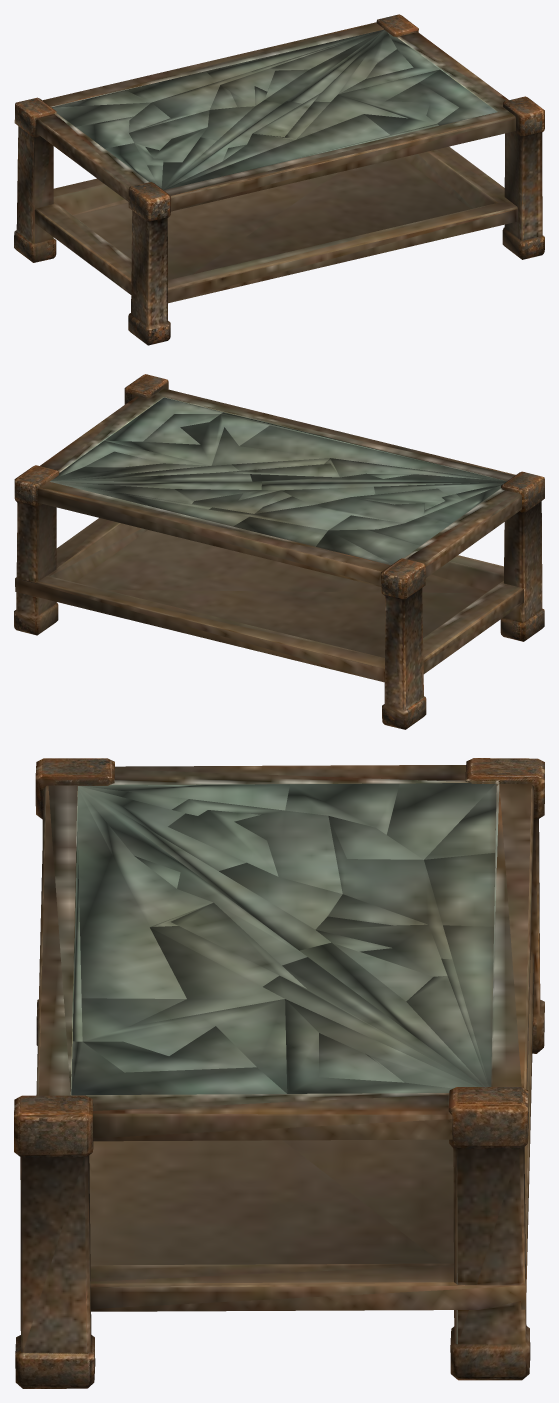
3 views of the same model, one above another, from view 1: azimuth 30°, elevation 25°; view 2: azimuth 150°, elevation 25°; view 3: azimuth 270°, elevation 25° (orthographic). The views are drawn at different scales.
Parts seen in each view (by area): view 1: tripo_node_9292c7ad, tripo_node_9292c7ad.040, tripo_node_9292c7ad.041, tripo_node_9292c7ad.018, tripo_node_9292c7ad.020, tripo_node_9292c7ad.010, tripo_node_9292c7ad.021, tripo_node_9292c7ad.009, tripo_node_9292c7ad.038, tripo_node_9292c7ad.002, tripo_node_9292c7ad.005, tripo_node_9292c7ad.015 (+24 smaller); view 2: tripo_node_9292c7ad, tripo_node_9292c7ad.041, tripo_node_9292c7ad.040, tripo_node_9292c7ad.018, tripo_node_9292c7ad.020, tripo_node_9292c7ad.010, tripo_node_9292c7ad.021, tripo_node_9292c7ad.009, tripo_node_9292c7ad.038, tripo_node_9292c7ad.002, tripo_node_9292c7ad.015, tripo_node_9292c7ad.005 (+24 smaller); view 3: tripo_node_9292c7ad, tripo_node_9292c7ad.018, tripo_node_9292c7ad.020, tripo_node_9292c7ad.010, tripo_node_9292c7ad.021, tripo_node_9292c7ad.009, tripo_node_9292c7ad.038, tripo_node_9292c7ad.002, tripo_node_9292c7ad.004, tripo_node_9292c7ad.015, tripo_node_9292c7ad.041, tripo_node_9292c7ad.005 (+26 smaller).
Boxes of the visible parts, x1,y1,x2,y2 form: tripo_node_9292c7ad: (34,14,544,303); tripo_node_9292c7ad.040: (128,182,170,345); tripo_node_9292c7ad.041: (14,97,56,262); tripo_node_9292c7ad.018: (166,114,389,189); tripo_node_9292c7ad.020: (338,69,439,134); tripo_node_9292c7ad.010: (129,110,209,165); tripo_node_9292c7ad.021: (419,69,497,125); tripo_node_9292c7ad.009: (130,71,253,132); tripo_node_9292c7ad.038: (296,94,407,139); tripo_node_9292c7ad.002: (52,102,150,126); tripo_node_9292c7ad.005: (206,29,383,81); tripo_node_9292c7ad.015: (163,101,302,189); tripo_node_9292c7ad: (14,374,523,682); tripo_node_9292c7ad.041: (381,558,426,729); tripo_node_9292c7ad.040: (500,471,544,641); tripo_node_9292c7ad.018: (239,425,504,480); tripo_node_9292c7ad.020: (105,414,269,465); tripo_node_9292c7ad.010: (313,494,462,523); tripo_node_9292c7ad.021: (104,397,223,441); tripo_node_9292c7ad.009: (209,505,402,530); tripo_node_9292c7ad.038: (212,427,328,465); tripo_node_9292c7ad.002: (329,529,419,564); tripo_node_9292c7ad.015: (250,474,506,481); tripo_node_9292c7ad.005: (51,482,248,526); tripo_node_9292c7ad: (14,765,534,1388); tripo_node_9292c7ad.018: (77,788,186,998); tripo_node_9292c7ad.020: (81,998,287,1093); tripo_node_9292c7ad.010: (172,799,342,893); tripo_node_9292c7ad.021: (71,1041,286,1095); tripo_node_9292c7ad.009: (328,816,452,959); tripo_node_9292c7ad.038: (128,927,284,1026); tripo_node_9292c7ad.002: (386,783,494,859); tripo_node_9292c7ad.004: (424,853,495,926); tripo_node_9292c7ad.015: (78,787,307,965); tripo_node_9292c7ad.041: (465,758,544,1053); tripo_node_9292c7ad.005: (443,925,493,1086).
Bounding box in the file's own units: 96.92 × 34.81 × 60.3.
Materials: 1 (1 with a texture image).
